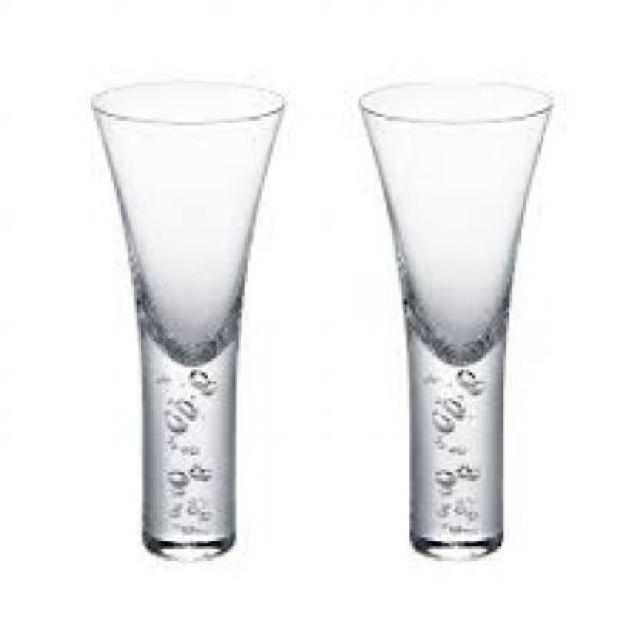kaca: (356, 77, 550, 554), (90, 80, 282, 555)
